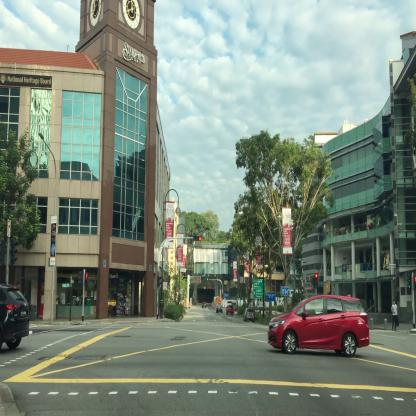red_traffic_light: (314, 272, 318, 288), (192, 235, 202, 241)
